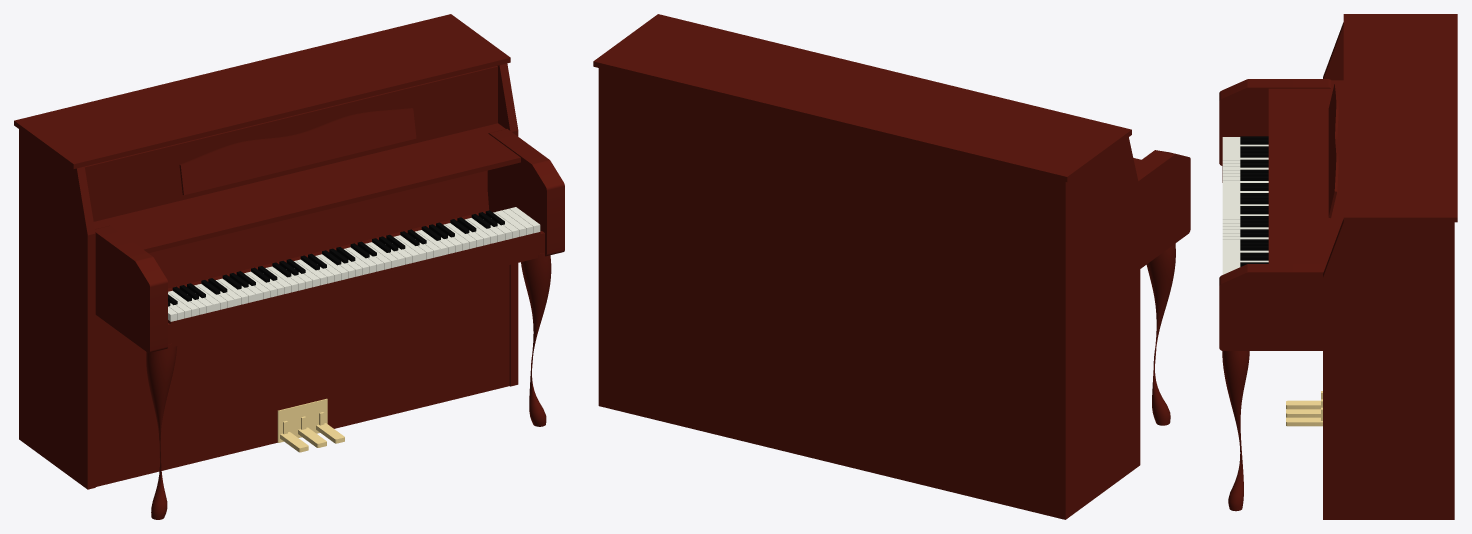
3 renders of one model, left to right at view 1: azimuth 30°, elevation 25°; view 2: azimuth 150°, elevation 25°; view 3: azimuth 270°, elevation 25°, orthographic. The views are drawn at different scales.
Visible parts, largest first — view 1: lower_front, lid, side.001, upper_shelf, upper_front, sloping_front, curved_panel, key_fascia, cheek.001, cheek, side, curved_leg.001 (+5 smaller); view 2: back, lid, side.001, cheek.001, curved_leg.001; view 3: side, lid, upper_shelf, cheek, cheek.001, curved_leg, back, curved_panel, side.001, pedal.003, pedal.001, pedal.002.
Part boxes in pixels (<box>): lower_front: <box>95,265,509,486</box>; lid: <box>14,14,510,168</box>; side.001: <box>21,131,95,489</box>; upper_shelf: <box>93,123,520,253</box>; upper_front: <box>84,66,497,221</box>; sloping_front: <box>149,170,489,288</box>; curved_panel: <box>179,108,416,195</box>; key_fascia: <box>168,231,544,344</box>; cheek.001: <box>95,225,167,353</box>; cheek: <box>487,129,564,256</box>; side: <box>497,63,518,386</box>; curved_leg.001: <box>146,343,177,519</box>; back: <box>598,68,1068,519</box>; lid: <box>593,14,1131,181</box>; side.001: <box>1068,137,1140,517</box>; cheek.001: <box>1135,150,1190,268</box>; curved_leg.001: <box>1146,243,1175,425</box>; side: <box>1323,219,1449,519</box>; lid: <box>1343,14,1457,222</box>; upper_shelf: <box>1268,80,1343,263</box>; cheek: <box>1219,264,1326,350</box>; cheek.001: <box>1219,79,1331,165</box>; curved_leg: <box>1222,351,1249,511</box>; back: <box>1449,222,1454,519</box>; curved_panel: <box>1328,83,1338,218</box>; side.001: <box>1323,22,1343,80</box>; pedal.003: <box>1286,417,1322,426</box>; pedal.001: <box>1286,400,1320,409</box>; pedal.002: <box>1286,409,1320,417</box>.
Size of the model in its own units: 1.5 by 1.04 by 0.7425.
